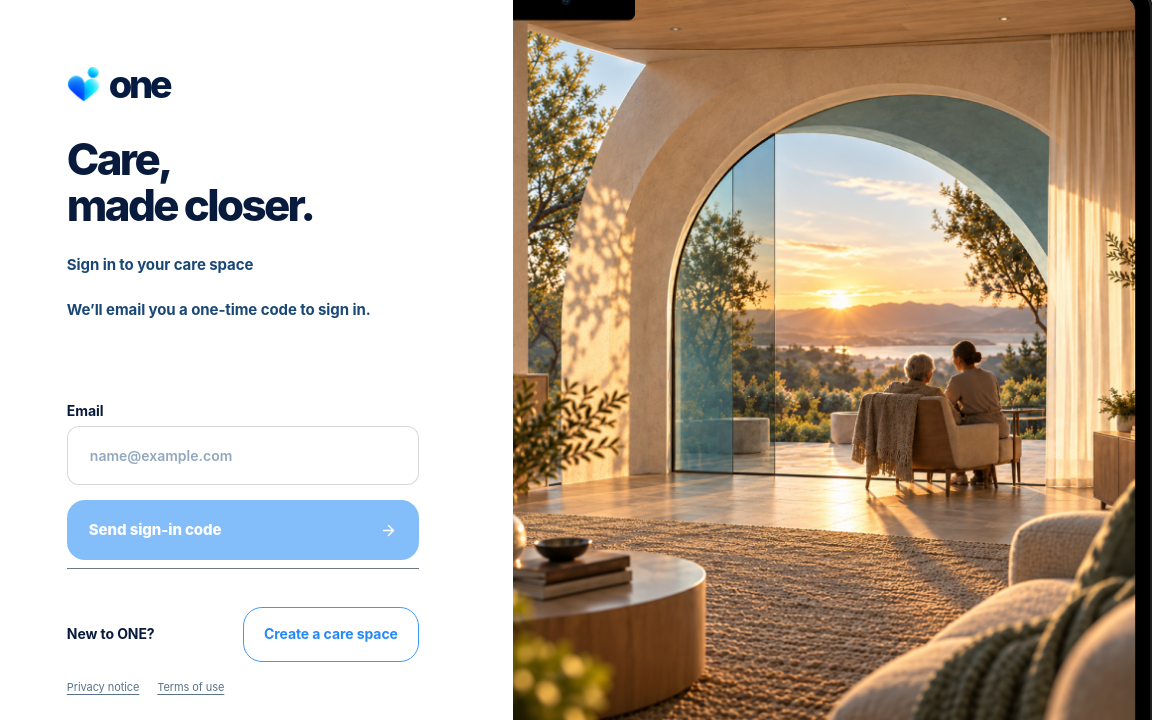
ONE web routes › opens Manuel’s care space from the normal email-code sign-in
In the field labelled "Email": (243, 456) [67, 426, 419, 485], type "garciafamily@gmail.com"
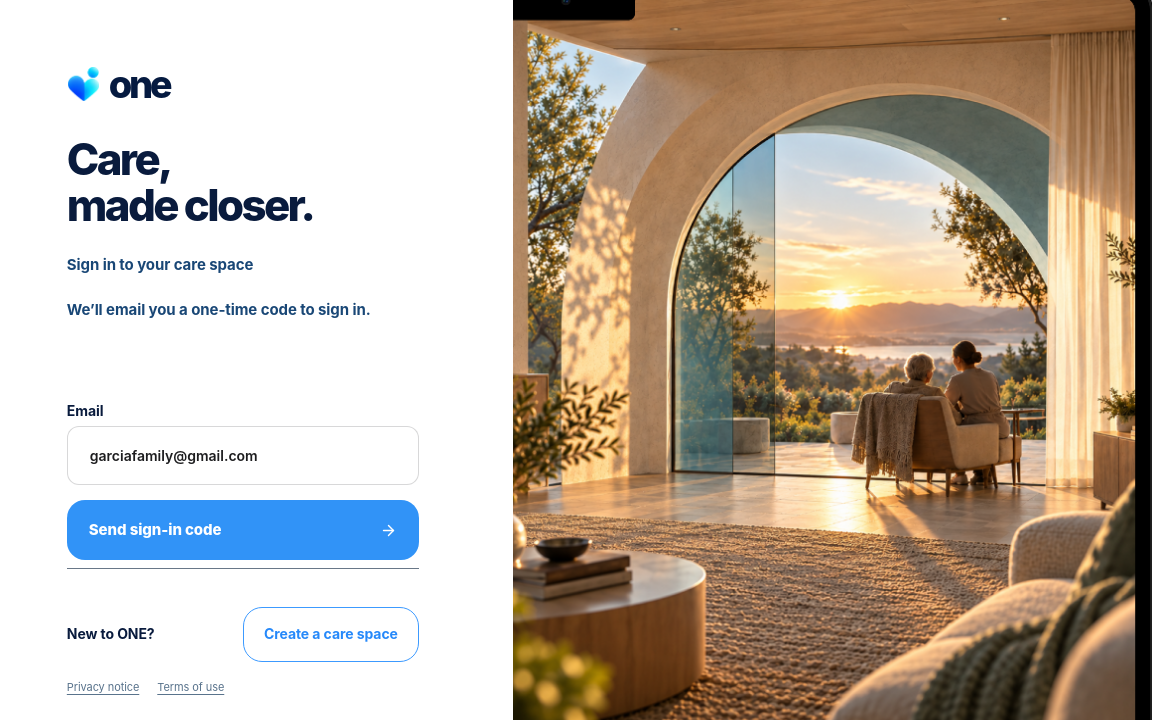
Click the button "Send sign-in code": (155, 530) [67, 500, 419, 560]
(page scrolled)
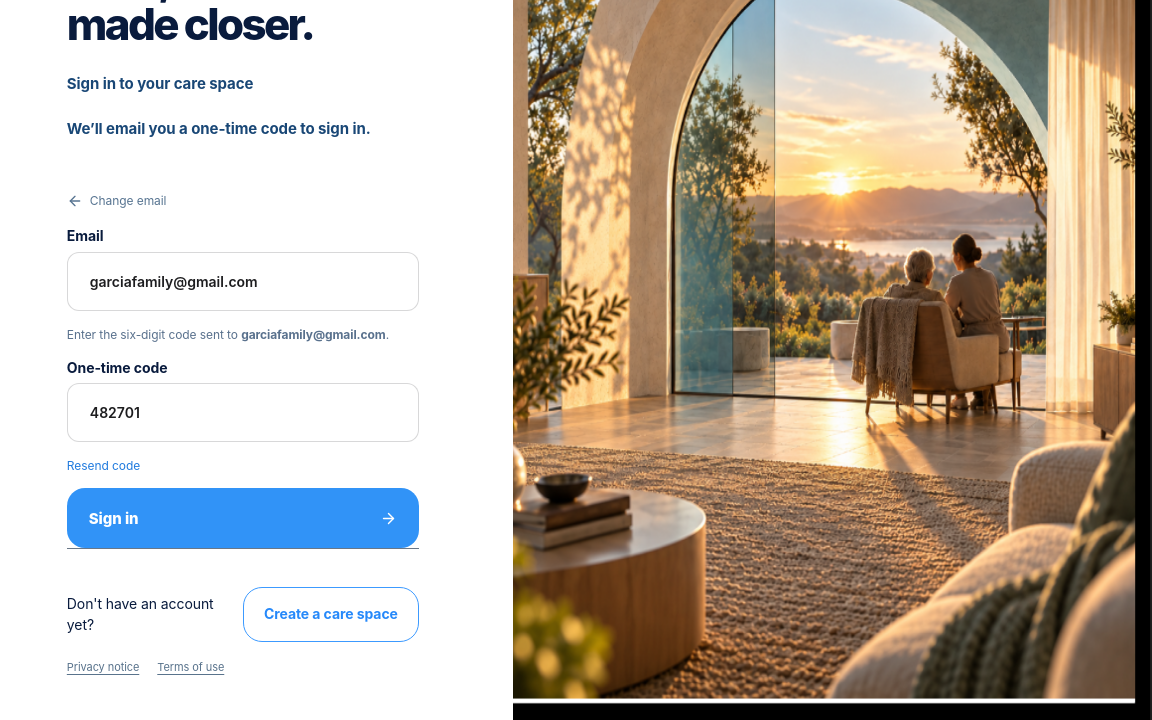
Result: the field labelled "One-time code" holds "482701" at [67, 383, 419, 442]
Click the button "Sign in": (114, 518) [67, 488, 419, 548]
(page scrolled)
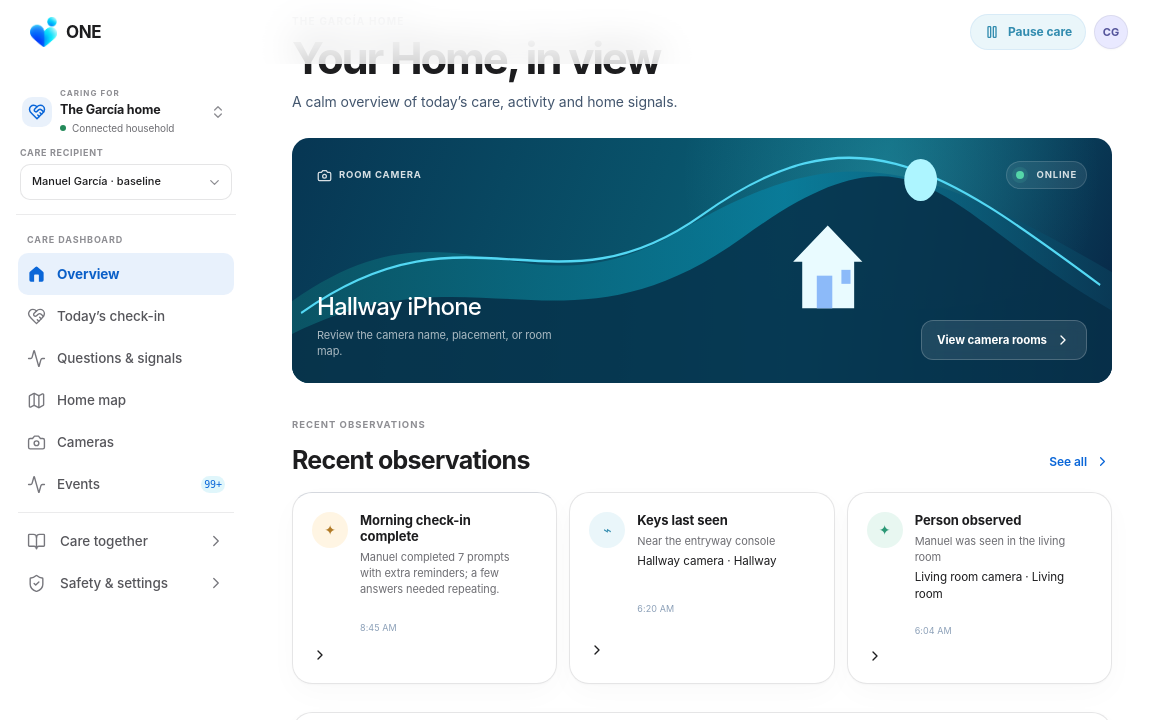
Result: the heading "Your Home, in view" is shown at [292, 32, 660, 85]
